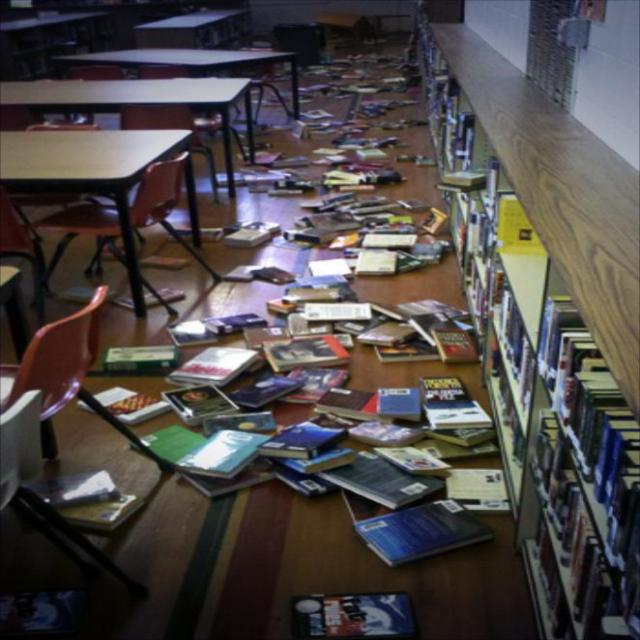chair: (34, 153, 192, 317), (0, 286, 110, 469)
desk: (0, 129, 192, 319), (0, 73, 255, 105)
